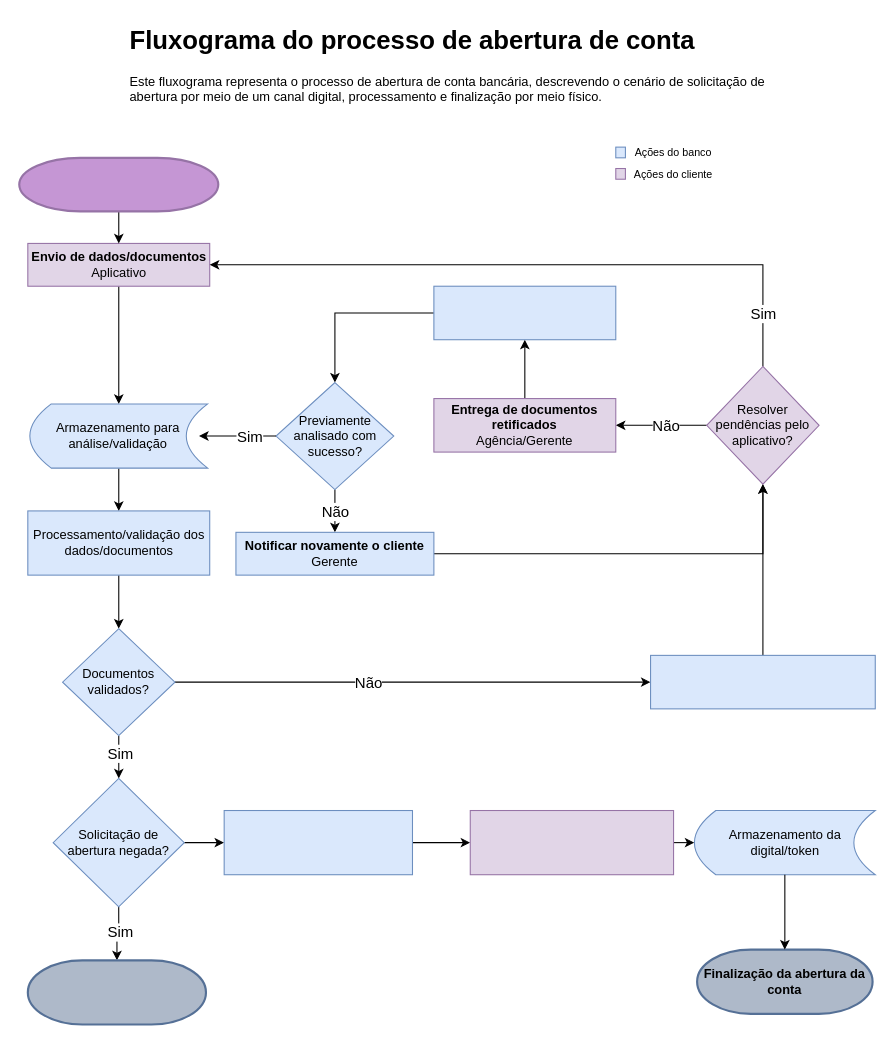
Image size: 895x1043. Some labels were removed from this diagram. Here are the shapes that lost their labels. From the top down, the centre of each, then its label:
point (118, 184): Solicitação de abertura de conta Aplicativo
point (524, 312): Análise pŕevia da documentação Gerente
point (762, 681): Notificar cliente da pendência Aplicativo
point (317, 842): Notificar cliente da abertura Aplicativo
point (571, 842): Validação da digital/token de acesso Agência
point (116, 992): Notificar cliente da negação Aplicativo
